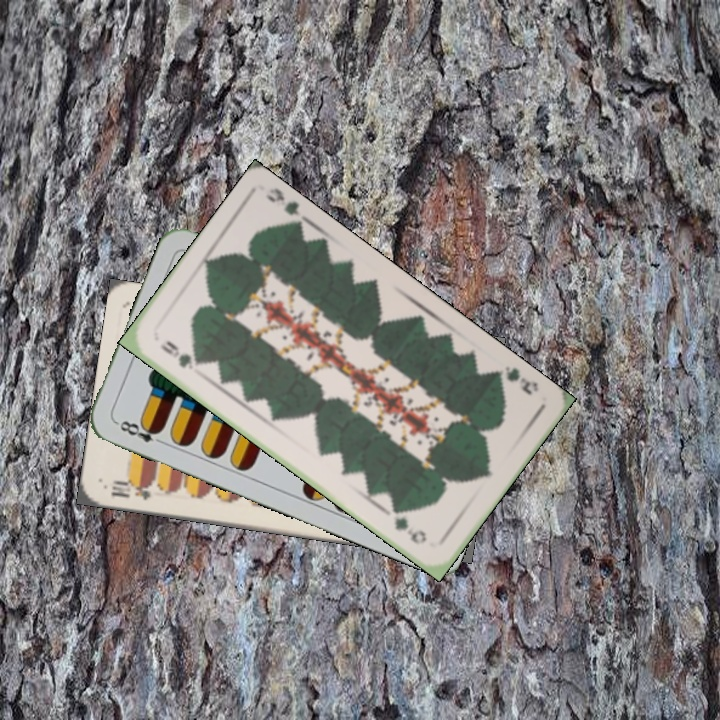E10: (107, 476, 155, 503)
E8: (112, 416, 168, 448)
G9: (489, 361, 541, 398), (156, 336, 204, 373)
